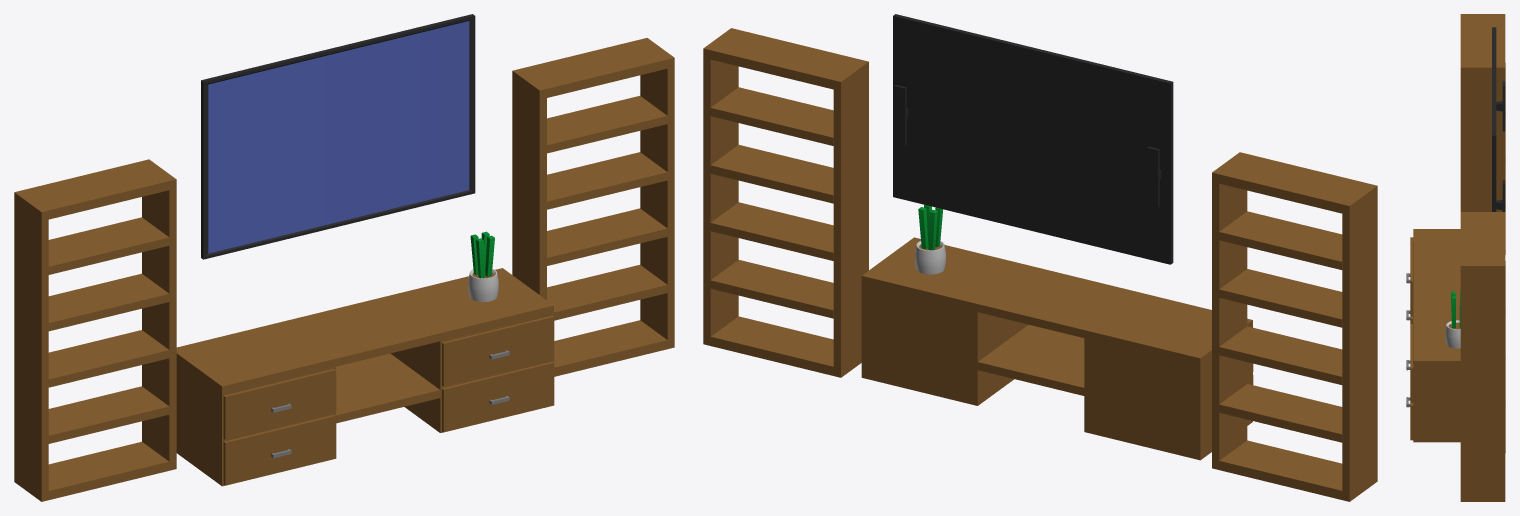
Rendered from Tv lawn.fbx.
3 views of the same model, side by side, from view 1: azimuth 30°, elevation 25°; view 2: azimuth 150°, elevation 25°; view 3: azimuth 270°, elevation 25° (orthographic). The views are drawn at different scales.
Visible parts, largest first — view 1: Tv lawn, Gamla tree; view 2: Tv lawn, Gamla tree; view 3: Tv lawn, Gamla tree.
Boxes of the visible parts, x1,y1,x2,y2 form: Tv lawn: (14,14,674,501); Gamla tree: (468,231,498,301); Tv lawn: (703,14,1377,501); Gamla tree: (915,205,945,274); Tv lawn: (1406,14,1505,501); Gamla tree: (1445,291,1460,348).
Size of the model in its own units: 116 by 63.3 by 19.29.
1 material, 1 textured.
